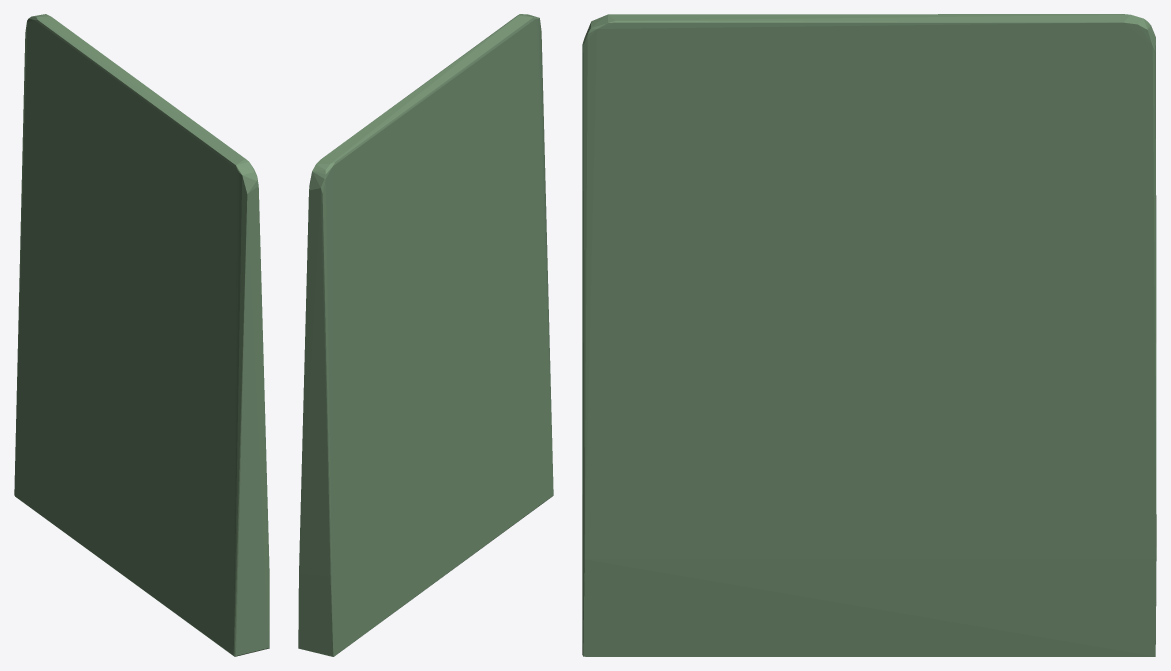
The model's file is sign_hospital_sidewall_a04.glb.
3 renders of one model, left to right at view 1: azimuth 30°, elevation 25°; view 2: azimuth 150°, elevation 25°; view 3: azimuth 270°, elevation 25°, orthographic. The views are drawn at different scales.
Parts seen in each view (by area): view 1: geometry_0; view 2: geometry_0; view 3: geometry_0.
Part boxes in pixels (x1,y1,x2,y2): geometry_0: (14, 14, 269, 656); geometry_0: (298, 14, 553, 656); geometry_0: (582, 14, 1156, 656).
Size of the model in its own units: 0.0374 by 0.48 by 0.397.
